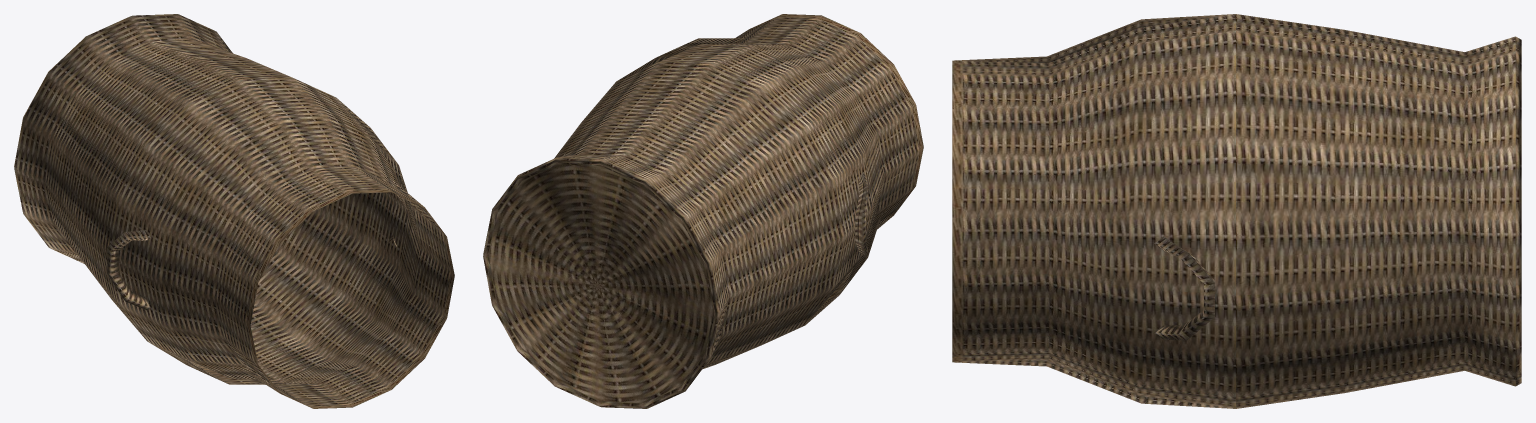
The model's file is prop_rattanbasket2.glb.
3 renders of one model, left to right at view 1: azimuth 30°, elevation 25°; view 2: azimuth 150°, elevation 25°; view 3: azimuth 270°, elevation 25°, orthographic. The views are drawn at different scales.
Size of the model in its own units: 35.07 by 32.85 by 47.3.
Materials: 1 (1 with a texture image).
